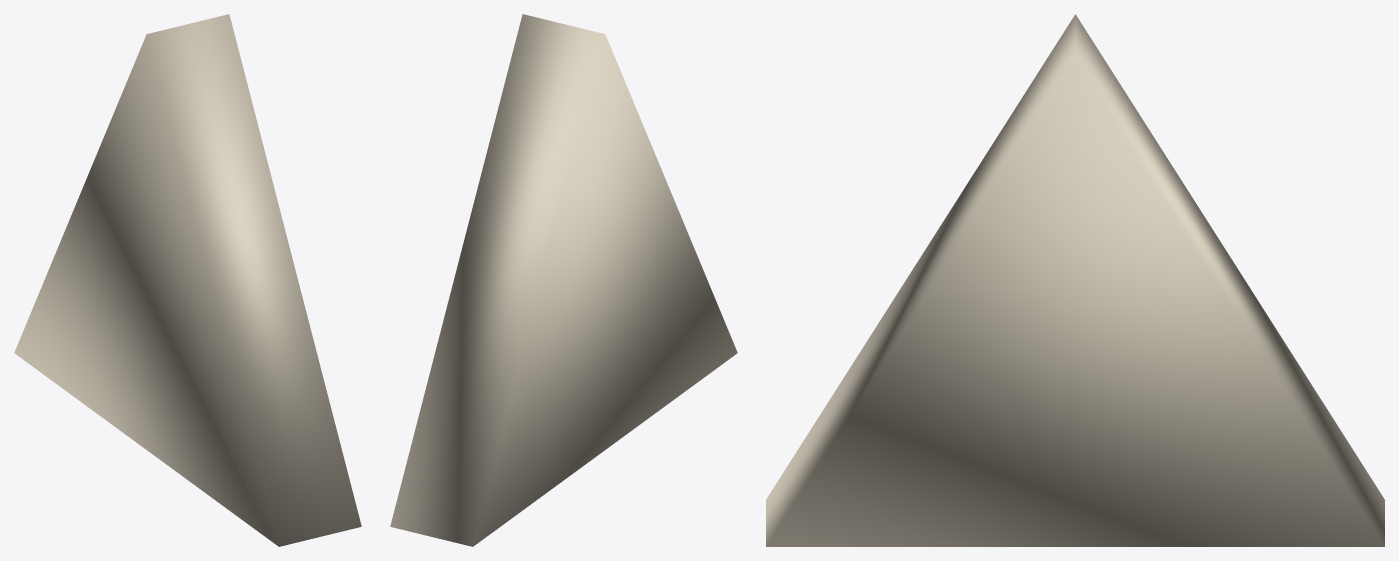
File: shape-triangle-colorless.glb
3 views of the same model, side by side, from view 1: azimuth 30°, elevation 25°; view 2: azimuth 150°, elevation 25°; view 3: azimuth 270°, elevation 25° (orthographic). The views are drawn at different scales.
Visible parts, largest first — view 1: solid triangle; view 2: solid triangle; view 3: solid triangle.
Part boxes in pixels (left/top/right/bottom): solid triangle: left=14, top=14, right=361, bottom=546; solid triangle: left=390, top=14, right=737, bottom=546; solid triangle: left=766, top=14, right=1384, bottom=546.
Bounding box in the file's own units: 0.25 × 1.2 × 1.39.
